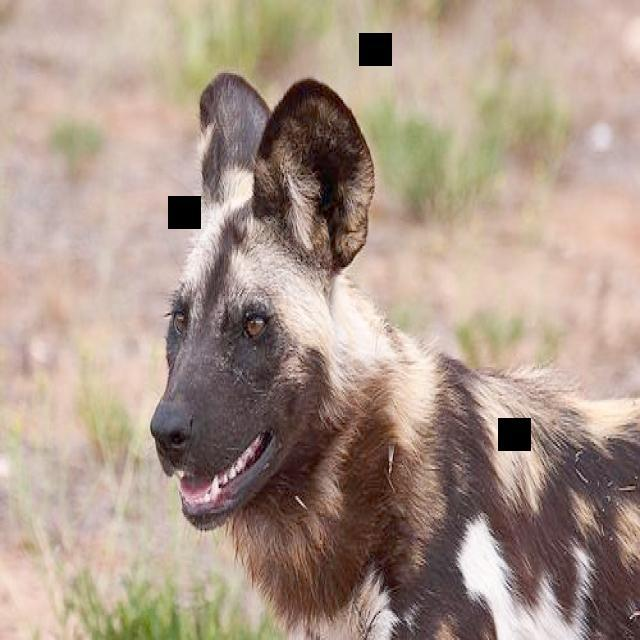adult_dog: (143, 69, 640, 640)
